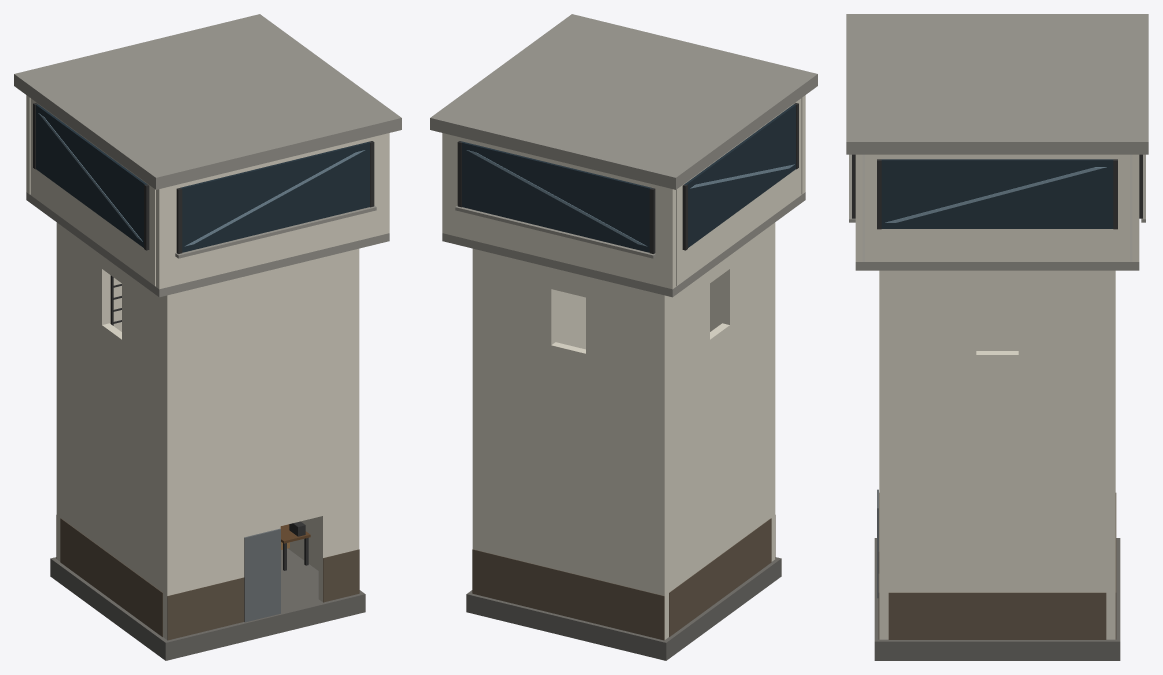
File: torre_controle_a.glb
3 views of the same model, side by side, from view 1: azimuth 30°, elevation 25°; view 2: azimuth 150°, elevation 25°; view 3: azimuth 270°, elevation 25° (orthographic). The views are drawn at different scales.
Parts seen in each view (by area): view 1: torre_controle_a; view 2: torre_controle_a; view 3: torre_controle_a.
Boxes of the visible parts, x1=… form: torre_controle_a: x1=14, y1=14, x2=401, y2=660; torre_controle_a: x1=430, y1=14, x2=817, y2=660; torre_controle_a: x1=846, y1=14, x2=1148, y2=660.
Size of the model in its own units: 6.4 by 12.4 by 6.4.
